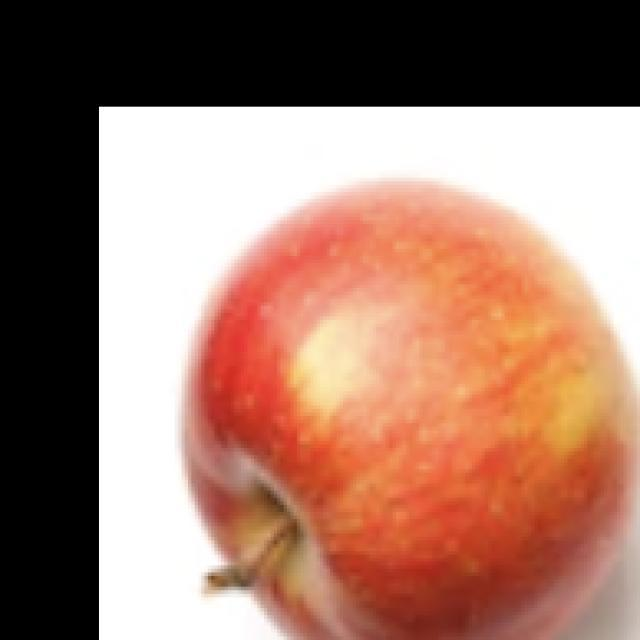Fresh Apple: (193, 191, 640, 639)
